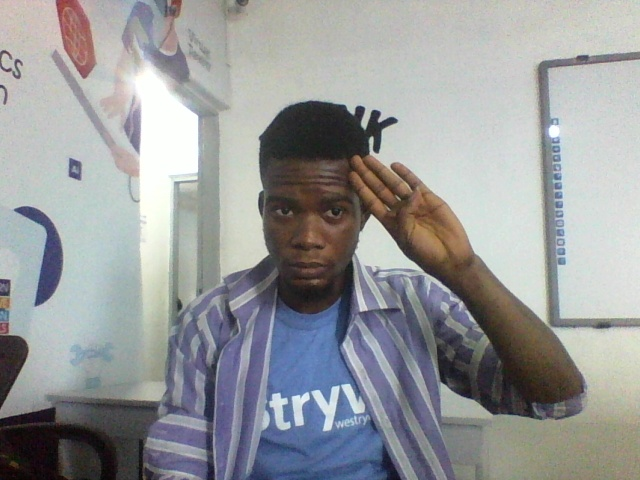hello: (338, 151, 483, 281)
